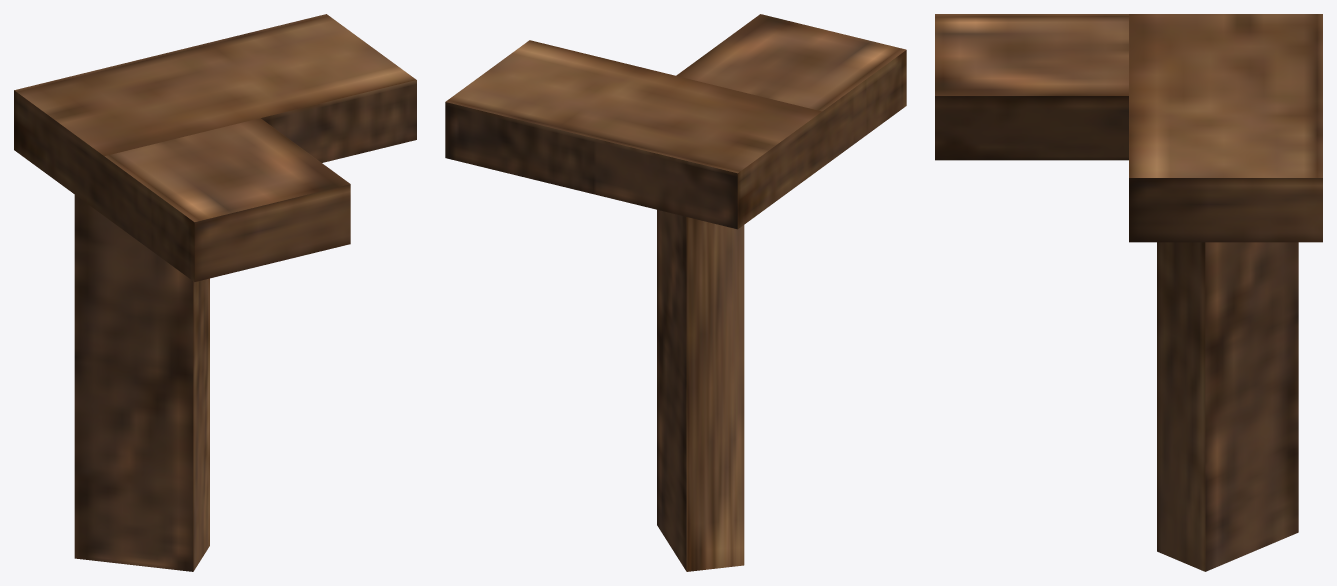
The model's file is a_SWGutileffence02.glb.
3 renders of one model, left to right at view 1: azimuth 30°, elevation 25°; view 2: azimuth 150°, elevation 25°; view 3: azimuth 270°, elevation 25°, orthographic. The views are drawn at different scales.
Parts seen in each view (by area): view 1: a_SWGutileffence02; view 2: a_SWGutileffence02; view 3: a_SWGutileffence02.
Part boxes in pixels (box(x1,y1,x2,y2)): a_SWGutileffence02: box(14, 14, 416, 571); a_SWGutileffence02: box(445, 14, 906, 571); a_SWGutileffence02: box(935, 14, 1322, 571).
Bounding box in the file's own units: 0.4 × 0.5505 × 0.4.
Materials: 1 (1 with a texture image).
